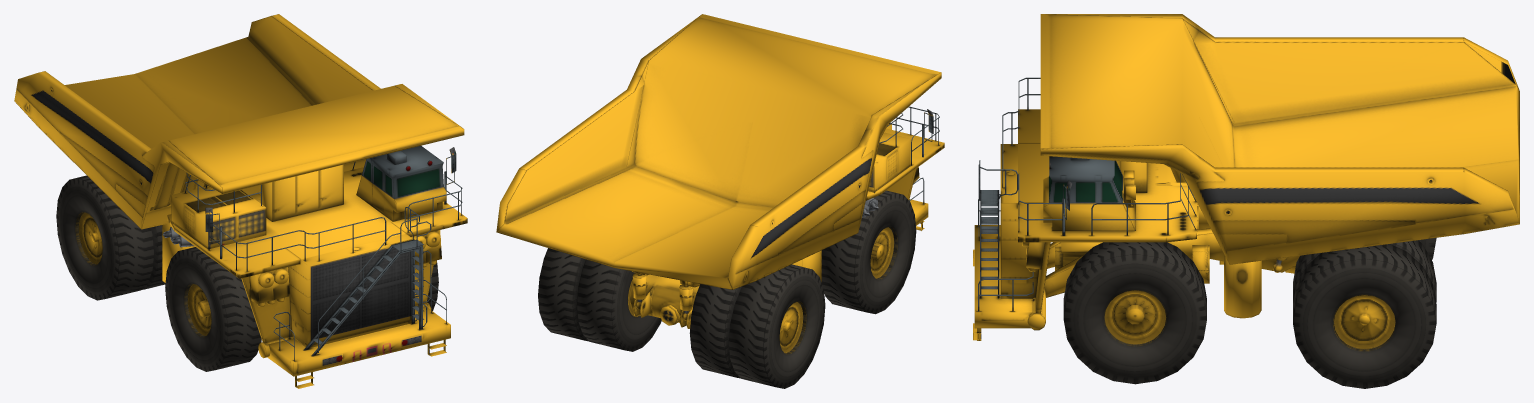
The model's file is Komatsu930E.fbx.
3 renders of one model, left to right at view 1: azimuth 30°, elevation 25°; view 2: azimuth 150°, elevation 25°; view 3: azimuth 270°, elevation 25°, orthographic. The views are drawn at different scales.
Parts seen in each view (by area): view 1: Komatsu930E_body1:polySurface1, Komatsu930E_wheelBackStbd:polySurface1, Komatsu930E_wheelFrontStbd:polySurface1; view 2: Komatsu930E_body1:polySurface1, Komatsu930E_wheelBackStbd:polySurface1, Komatsu930E_wheelBackPort:polySurface1, Komatsu930E_wheelFrontStbd:polySurface1; view 3: Komatsu930E_body1:polySurface1, Komatsu930E_wheelBackPort:polySurface1, Komatsu930E_wheelFrontPort1:polySurface1.
Part boxes in pixels (x1,y1,x2,y2): Komatsu930E_body1:polySurface1: (14,14,467,388); Komatsu930E_wheelBackStbd:polySurface1: (56,175,165,300); Komatsu930E_wheelFrontStbd:polySurface1: (165,247,261,371); Komatsu930E_body1:polySurface1: (496,14,944,328); Komatsu930E_wheelBackStbd:polySurface1: (689,264,825,388); Komatsu930E_wheelBackPort:polySurface1: (538,248,661,351); Komatsu930E_wheelFrontStbd:polySurface1: (821,190,916,314); Komatsu930E_body1:polySurface1: (973,14,1519,340); Komatsu930E_wheelBackPort:polySurface1: (1293,240,1436,388); Komatsu930E_wheelFrontPort1:polySurface1: (1063,242,1206,384).
Bounding box in the file's own units: 894 × 728 × 1478.
